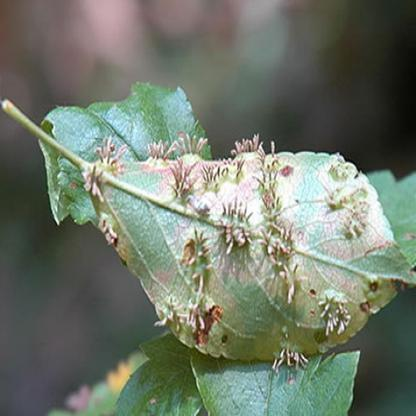apple rust leaf: (88, 114, 410, 378)
